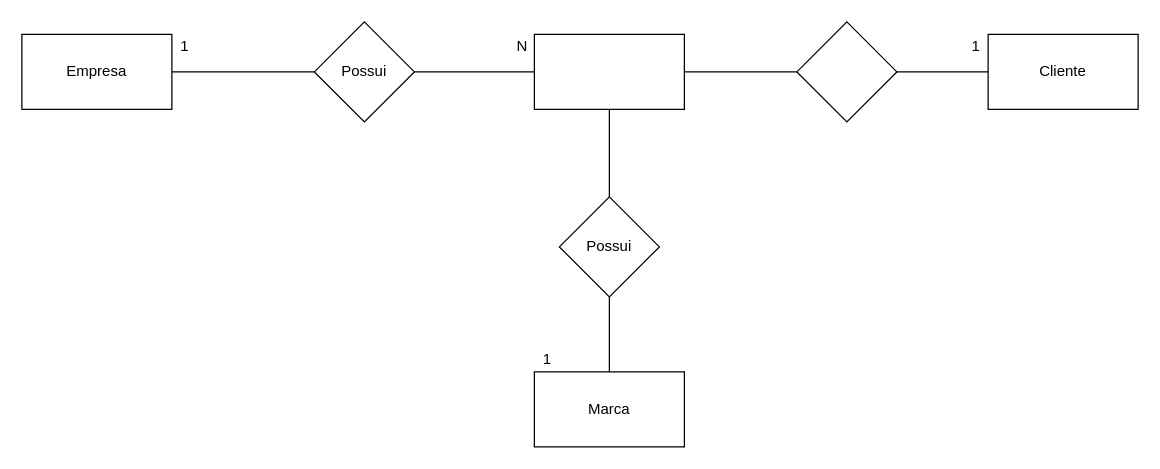
This 1160x469 diagram has some shape labels left out. Here are the shapes that lost their labels. From the top down, the centre of each, then its label:
[608,71]: Veiculo
[846,71]: Aluga
